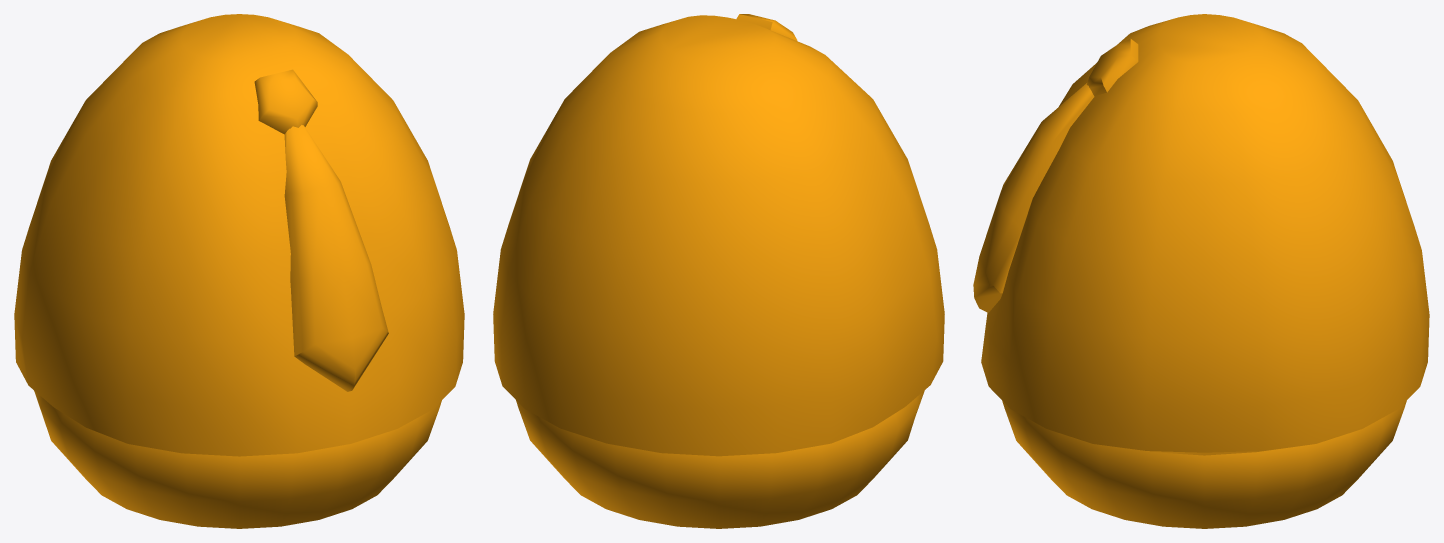
File: PrototypePete_body.obj
The picture shows the model from 3 angles, left to right: view 1: azimuth 30°, elevation 25°; view 2: azimuth 150°, elevation 25°; view 3: azimuth 270°, elevation 25°; orthographic projection.
Parts seen in each view (by area): view 1: PrototypePete_body; view 2: PrototypePete_body; view 3: PrototypePete_body.
Boxes of the visible parts, <box> form: PrototypePete_body: <box>14,14,464,528</box>; PrototypePete_body: <box>493,14,944,528</box>; PrototypePete_body: <box>973,14,1429,528</box>.
Bounding box in the file's own units: 0.6761 × 0.7256 × 0.7094.
